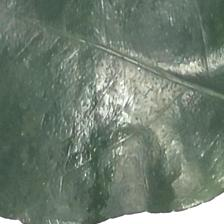healthy: (2, 3, 224, 200)
